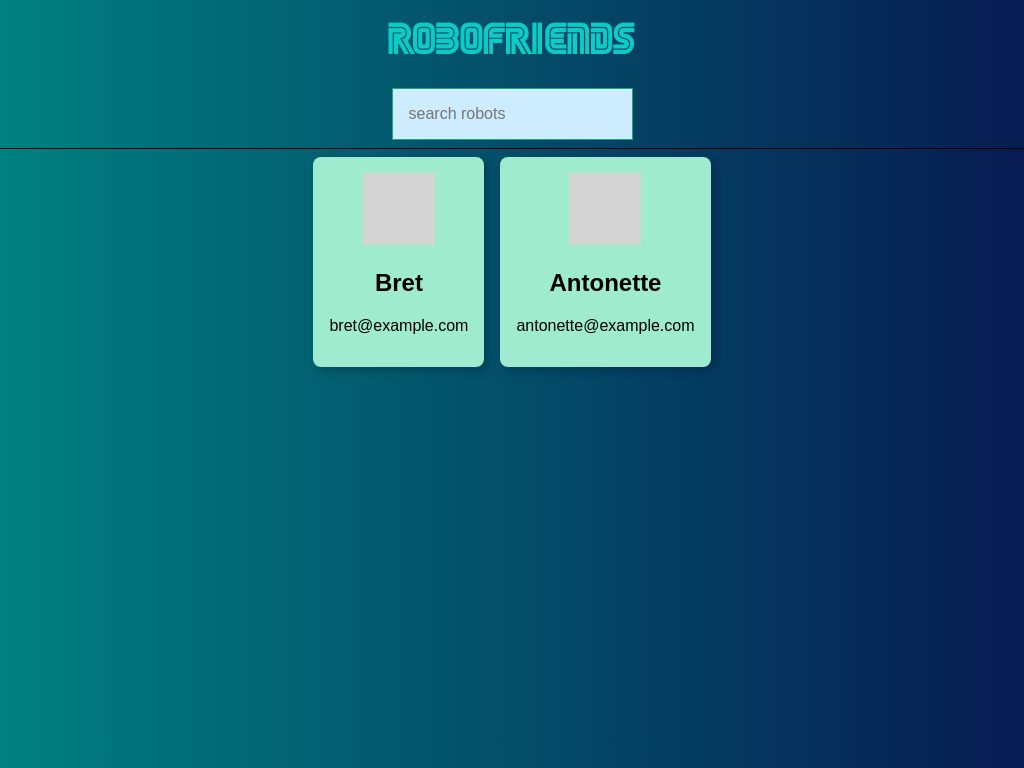
Test case: App › loads robots and filters them by search query, keeping each robot avatar
The image size is (1024, 768).
Expected: the heading "Bret" is shown, [375,269,423,296]
Expected: the heading "Antonette" is shown, [550,269,662,296]
In the search field: (512, 114) [392,88,632,140], type "anto"
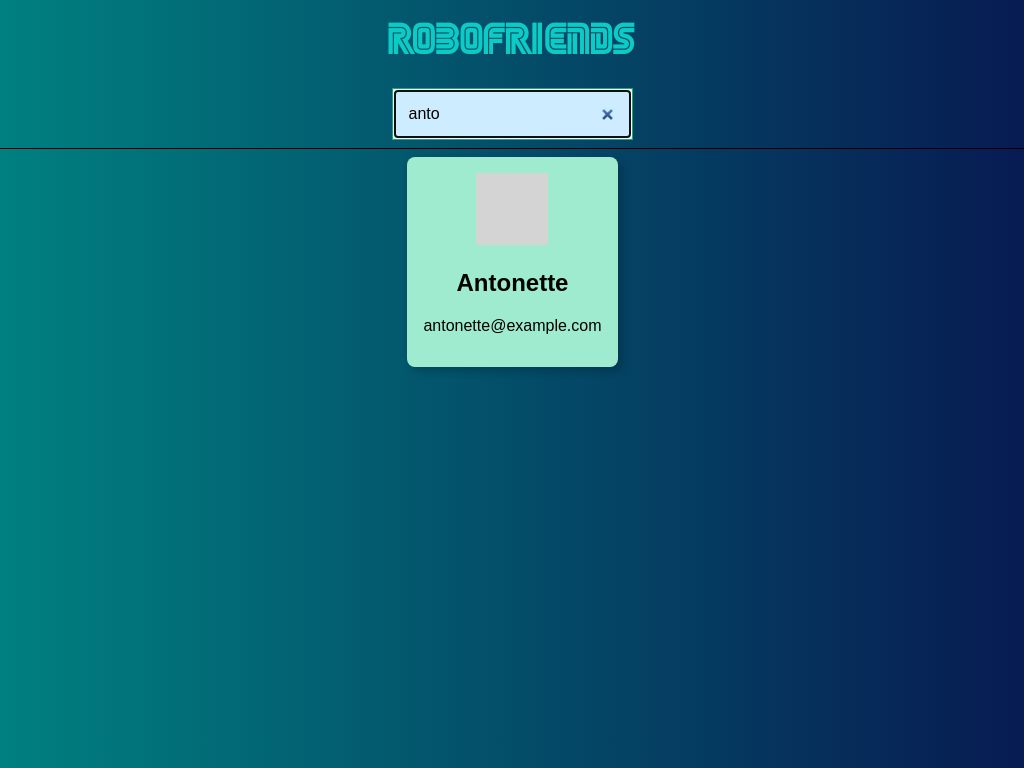
Expected: the heading "Antonette" is shown, [456,269,568,296]
Now the heading "Bret" is gone
